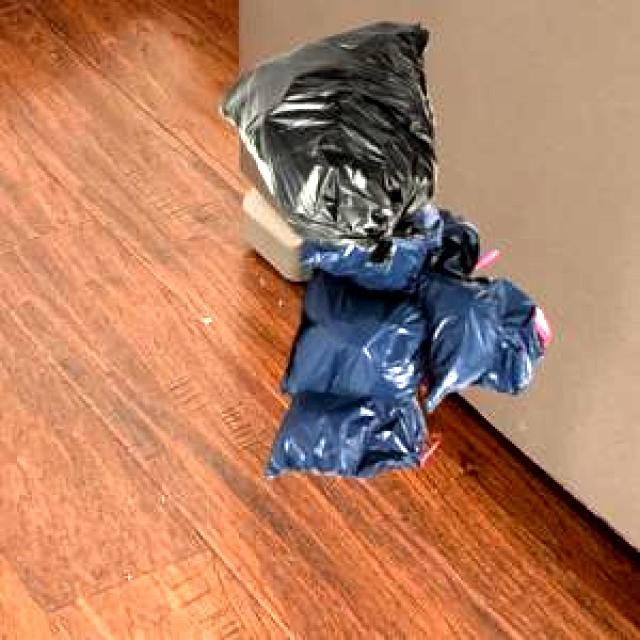Garbage_Bag: (264, 202, 545, 476), (216, 20, 434, 266)
